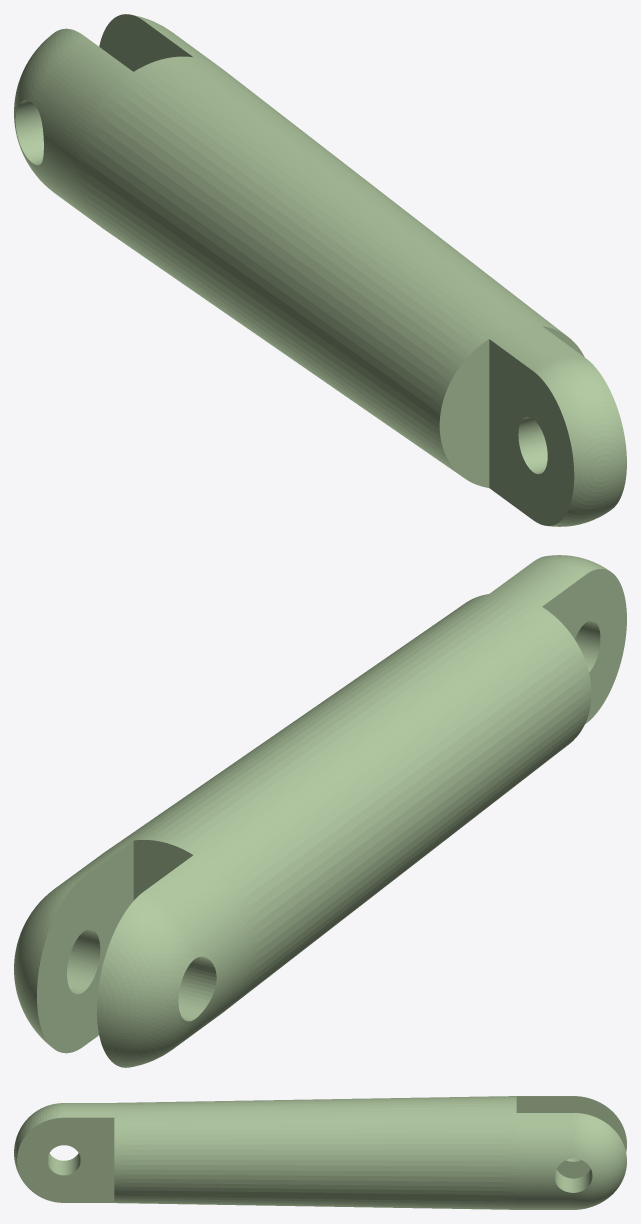
3 views of the same model, one above another, from view 1: azimuth 30°, elevation 25°; view 2: azimuth 150°, elevation 25°; view 3: azimuth 270°, elevation 25° (orthographic). The views are drawn at different scales.
Parts seen in each view (by area): view 1: node; view 2: node; view 3: node.
Part boxes in pixels (<box>): node: <box>14,14,626,526</box>; node: <box>14,555,626,1067</box>; node: <box>14,1096,626,1209</box>.
Bounding box in the file's own units: 0.085 × 0.0849 × 0.457.
